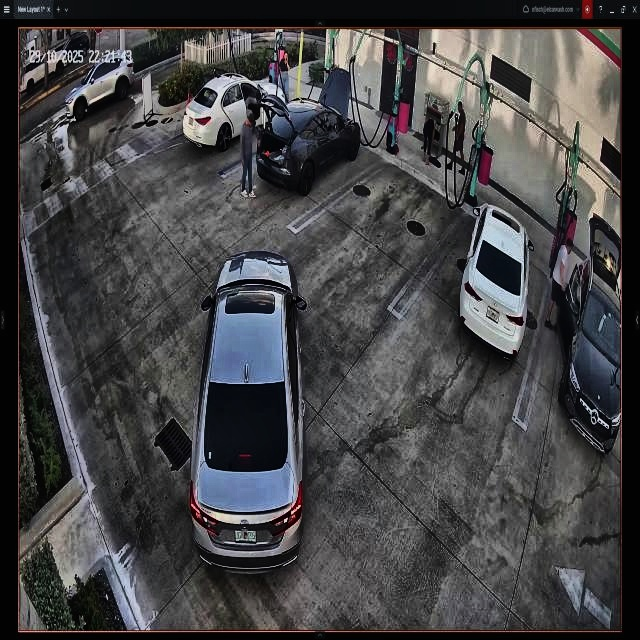Car: (189, 254, 306, 570), (258, 66, 360, 194), (460, 201, 532, 365), (184, 74, 286, 150)
